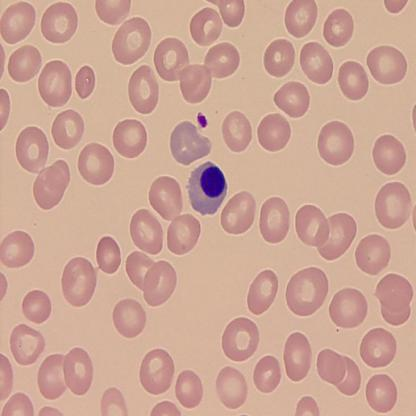NRC: (184, 159, 228, 217)
